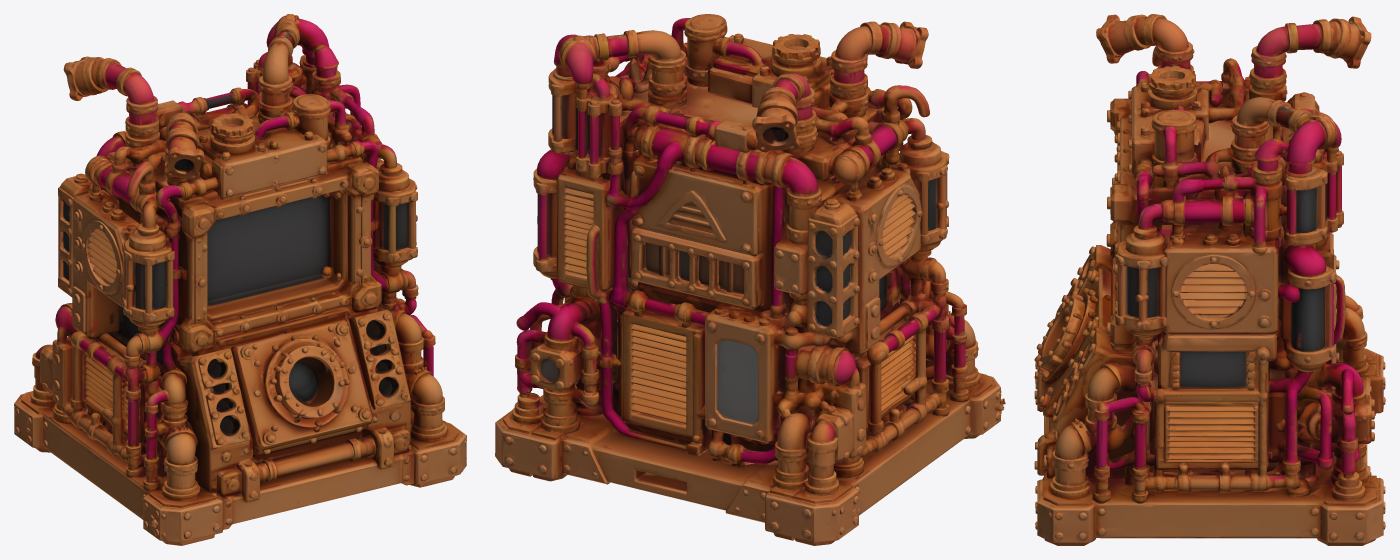
3 views of the same model, side by side, from view 1: azimuth 30°, elevation 25°; view 2: azimuth 150°, elevation 25°; view 3: azimuth 270°, elevation 25° (orthographic). The views are drawn at different scales.
Parts seen in each view (by area): view 1: texture_pbr_v128; view 2: texture_pbr_v128; view 3: texture_pbr_v128.
Part boxes in pixels (box(x1,y1,x2,y2)): texture_pbr_v128: box(14, 14, 466, 545); texture_pbr_v128: box(495, 14, 1005, 545); texture_pbr_v128: box(1034, 14, 1385, 545).
Size of the model in its own units: 0.7104 by 0.8245 by 0.6388.
1 material, 1 textured.
